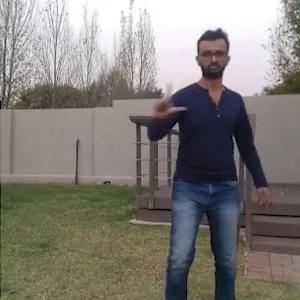land_hand: (144, 76, 189, 121)
